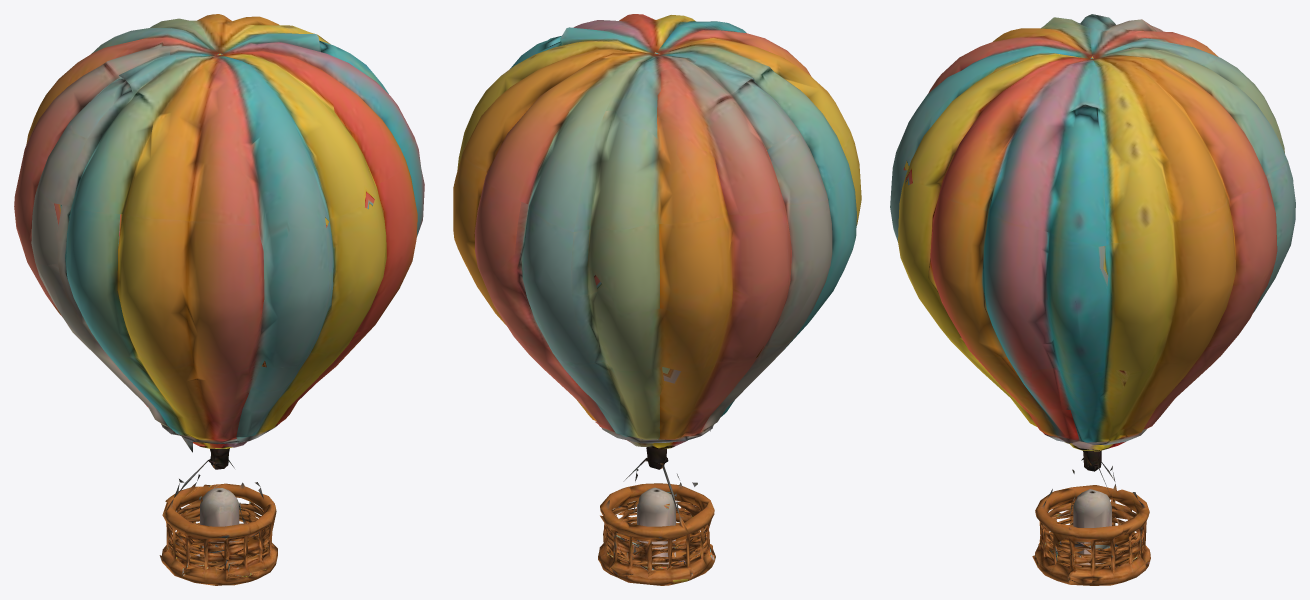
File: balloon.glb
The picture shows the model from 3 angles, left to right: view 1: azimuth 30°, elevation 25°; view 2: azimuth 150°, elevation 25°; view 3: azimuth 270°, elevation 25°; orthographic projection.
Parts seen in each view (by area): view 1: prop; view 2: prop; view 3: prop.
Boxes of the visible parts, <box> form: prop: <box>14,14,424,585</box>; prop: <box>453,14,861,585</box>; prop: <box>890,14,1295,585</box>.
Bounding box in the file's own units: 0.7132 × 1 × 0.7131.
1 material, 1 textured.
